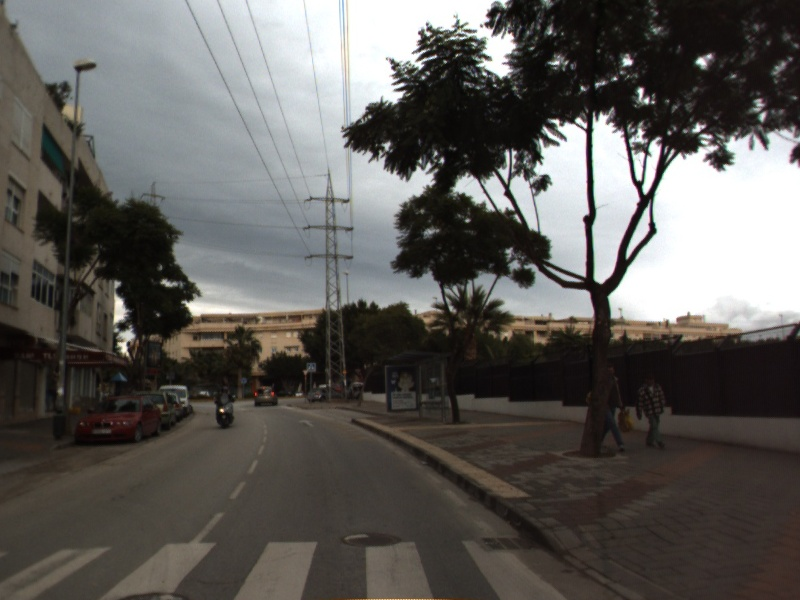STRAIGHT: (296, 417, 317, 429)
